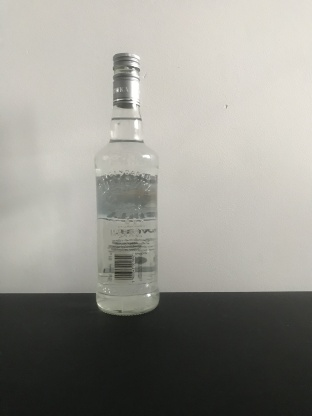nakretka: (111, 51, 141, 109)
